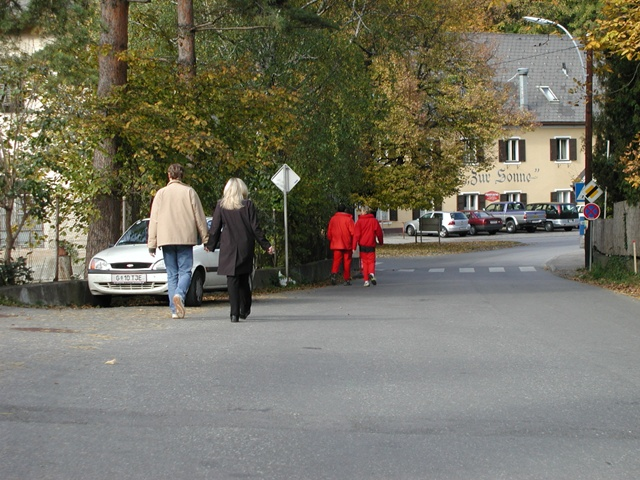person: (206, 173, 262, 323), (150, 165, 198, 318), (324, 202, 359, 287)
